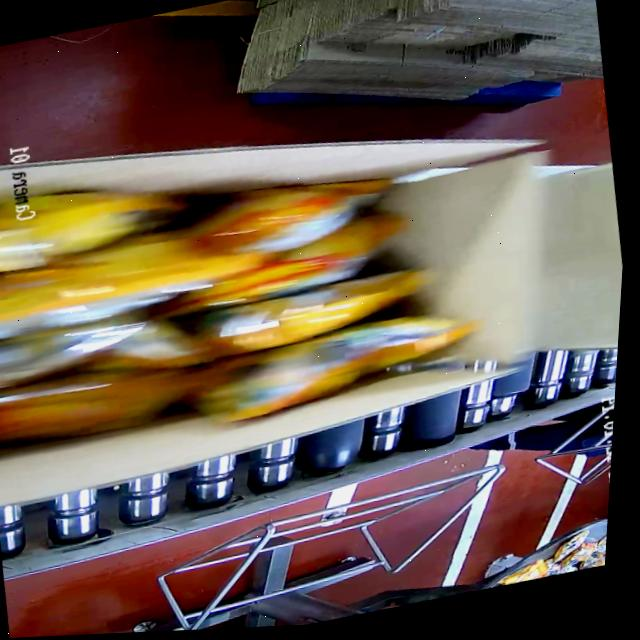FRENCH_CHEESE: (0, 118, 483, 467)
